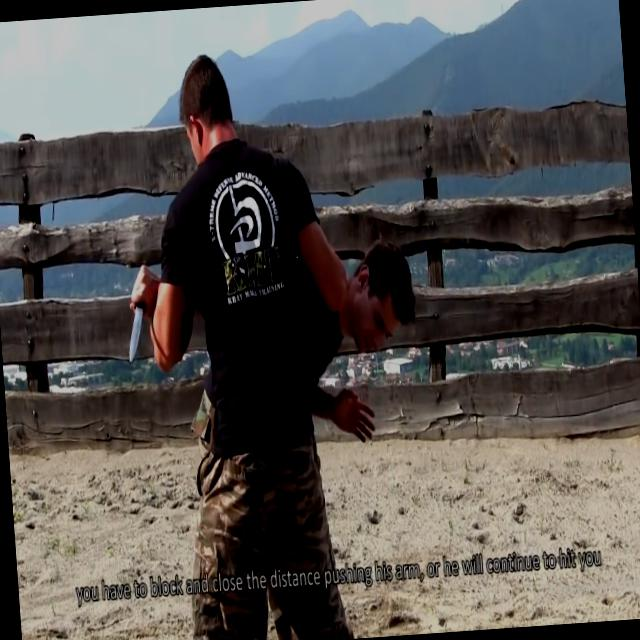knife: (116, 258, 158, 374)
